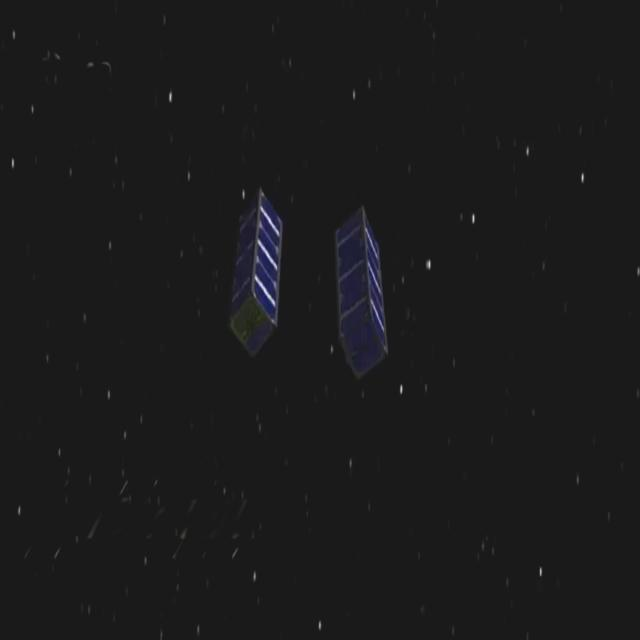large_debris: (324, 185, 402, 381), (223, 176, 298, 361)
